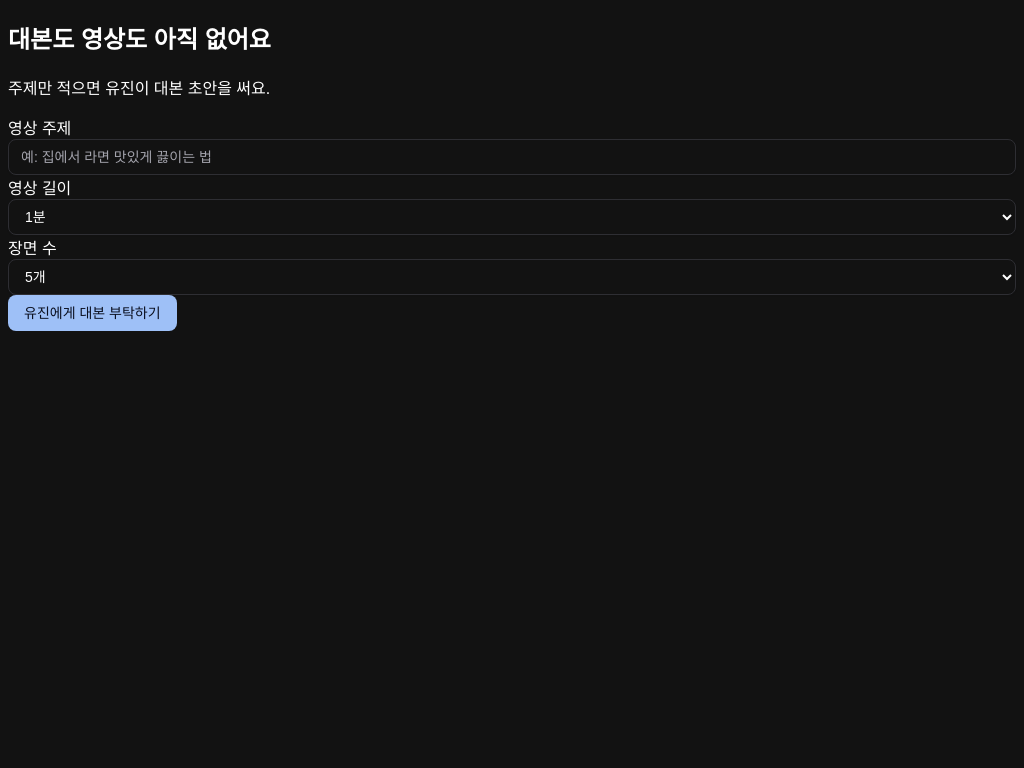
Test case: 유진이 대본 초안 쓰기 › 장면마다 무엇을 보여 줄지도 함께 보여 준다
This screenshot has width=1024, height=768.
Type "집에서 라면 맛있게 끓이는 법" into the field labelled "영상 주제". click: (512, 157)
box: top-left (8, 139), bottom-right (1016, 175)
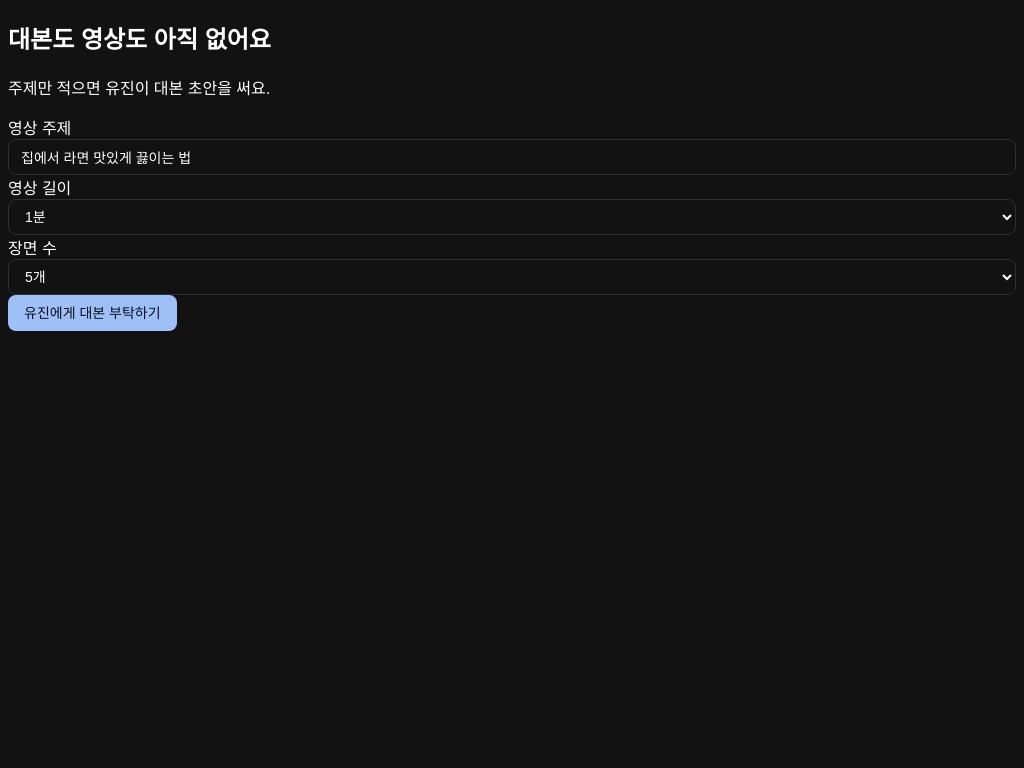
Click the button "유진에게 대본 부탁하기". click: (92, 313)
box: top-left (8, 295), bottom-right (177, 331)
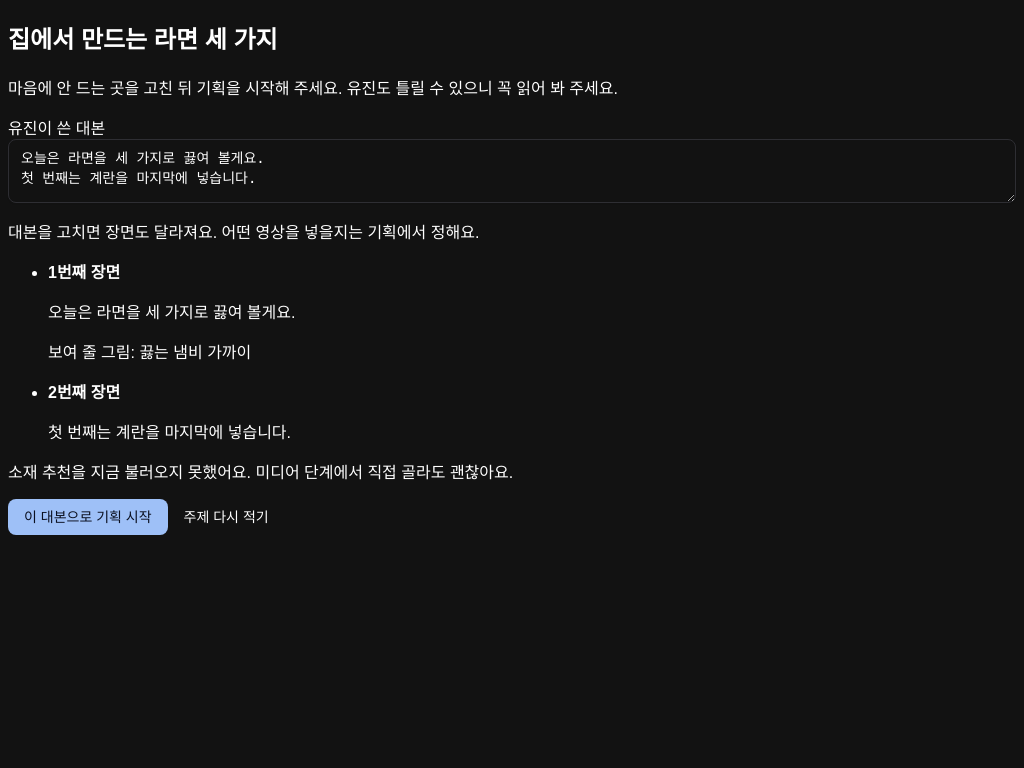
expect the list named "유진이 생각한 장면" shows "끓는 냄비 가까이": met, box top-left (48, 344), bottom-right (251, 361)
